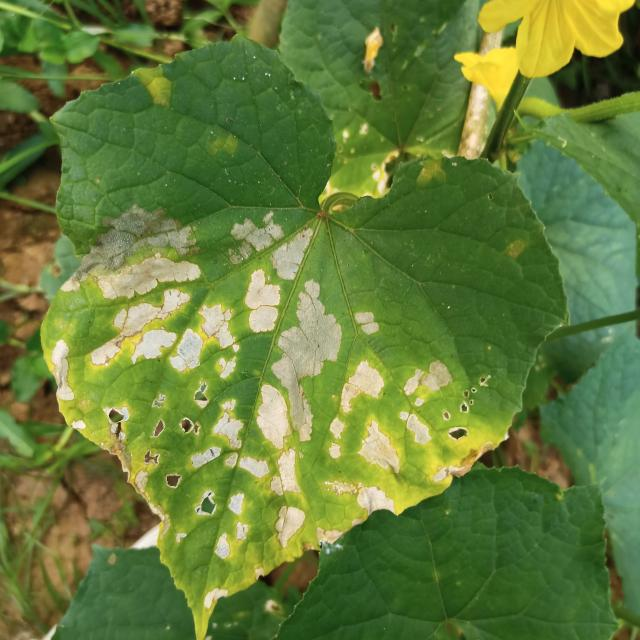disease_cucumber: (49, 195, 473, 612), (134, 61, 182, 115)
